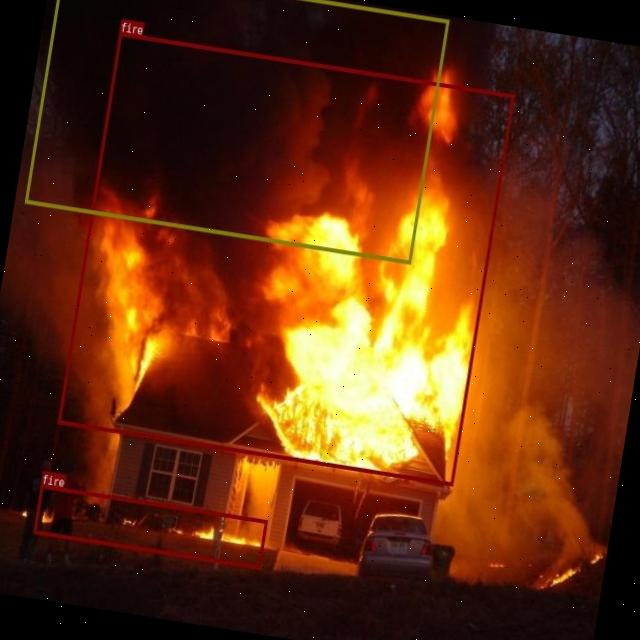fire: (58, 32, 514, 486), (33, 484, 267, 568)
smoke: (24, 0, 448, 263)
